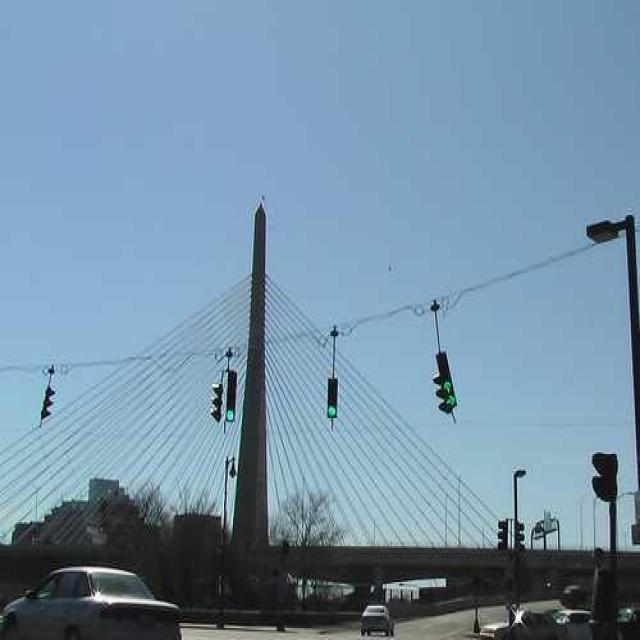Traffic Light -Green-: (432, 348, 458, 415), (222, 369, 240, 425), (325, 375, 341, 420)
